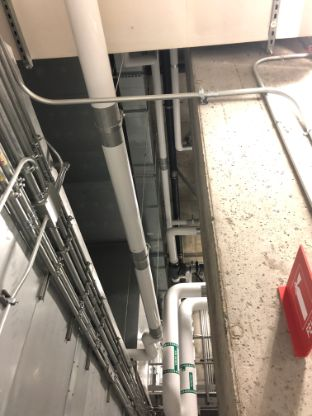Duct: (110, 51, 168, 302)
